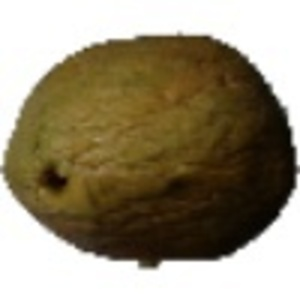mamão: (3, 35, 297, 266)
